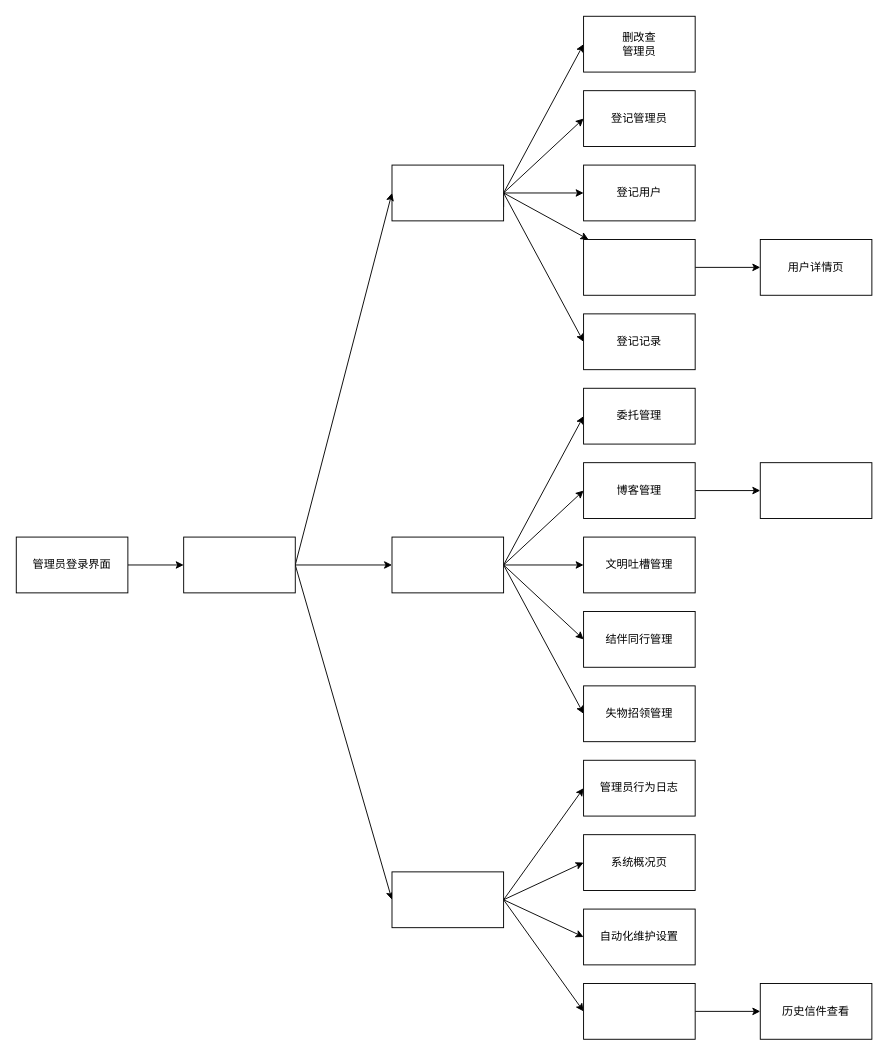
This 888x1056 diagram has some shape labels left out. The shapes that lost their labels are listed below. From the top down, each one's centre as x and y in pixels, then its label:
At (447,192): "用户管理".
At (639,267): "删改查 普通用户".
At (815,490): "博客详情页".
At (239,564): "主页 （系统概况页）".
At (447,564): "业务管理".
At (447,899): "系统控制管理".
At (639,1011): "系统信箱".
